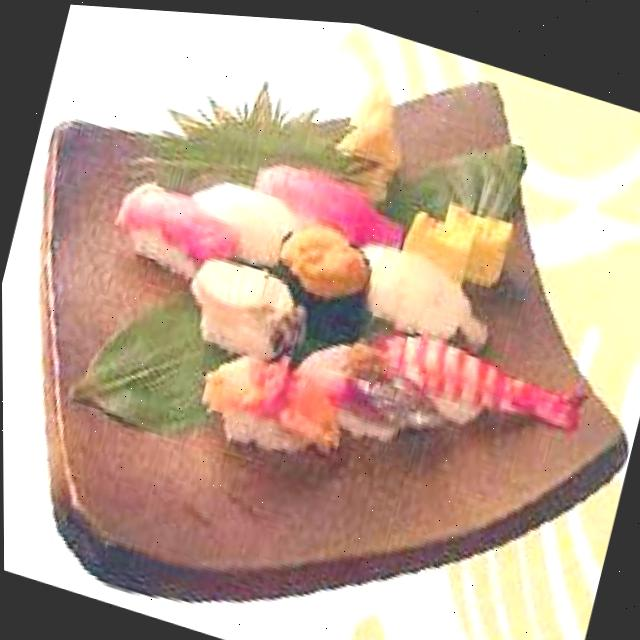寿司卷物: (87, 107, 570, 514)
